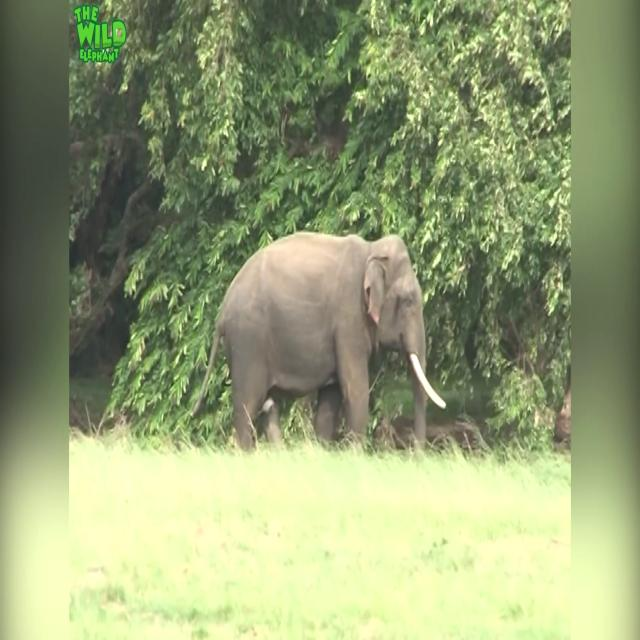Elephant: (190, 229, 447, 452)
